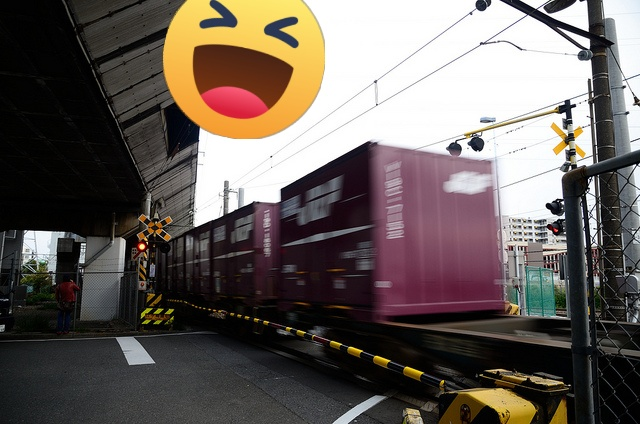haha: (163, 0, 325, 139)
